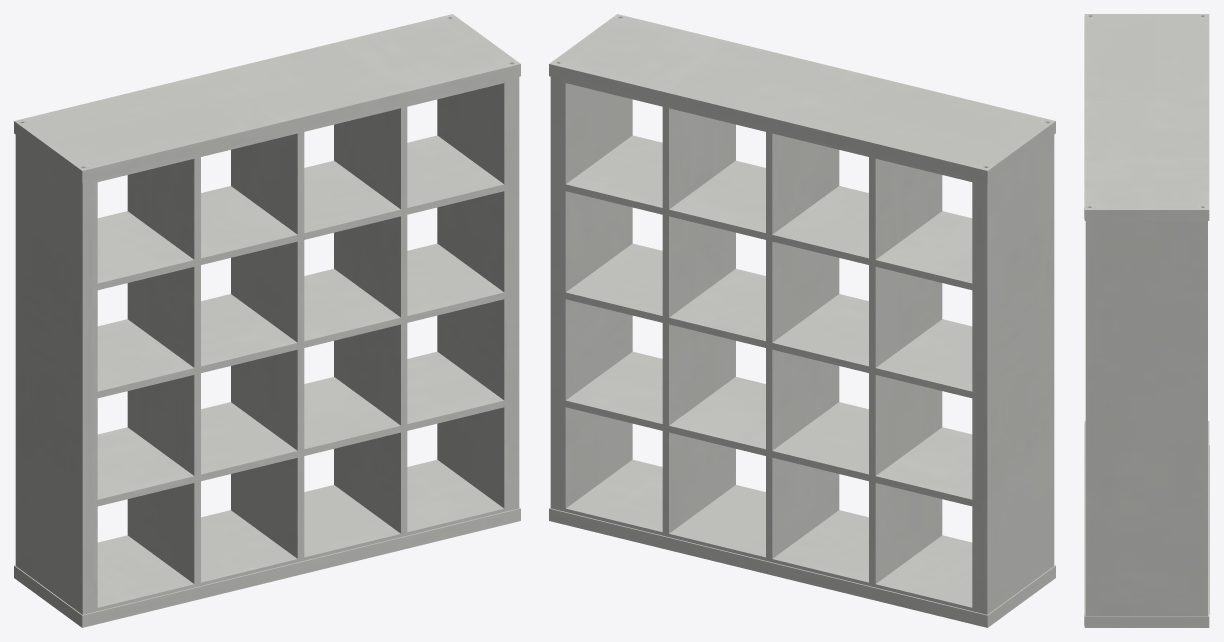
File: square_shelves_single-transformed.glb
3 views of the same model, side by side, from view 1: azimuth 30°, elevation 25°; view 2: azimuth 150°, elevation 25°; view 3: azimuth 270°, elevation 25° (orthographic). The views are drawn at different scales.
Parts seen in each view (by area): view 1: Object_4; view 2: Object_4; view 3: Object_4.
Part boxes in pixels (box(x1,y1,x2,y2)): Object_4: box(14, 14, 520, 627); Object_4: box(549, 14, 1055, 627); Object_4: box(1084, 14, 1209, 627).
Size of the model in its own units: 1.48 by 1.47 by 0.3984.
Materials: 1 (1 with a texture image).
